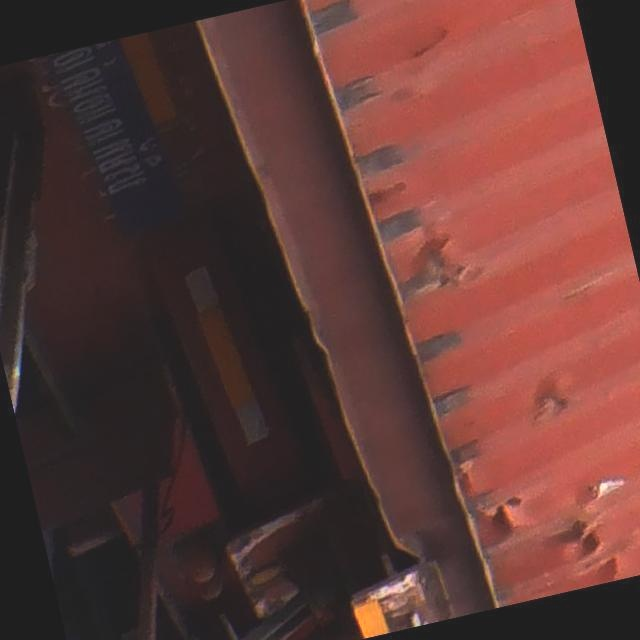Dent: (388, 209, 479, 350), (473, 479, 534, 554)
